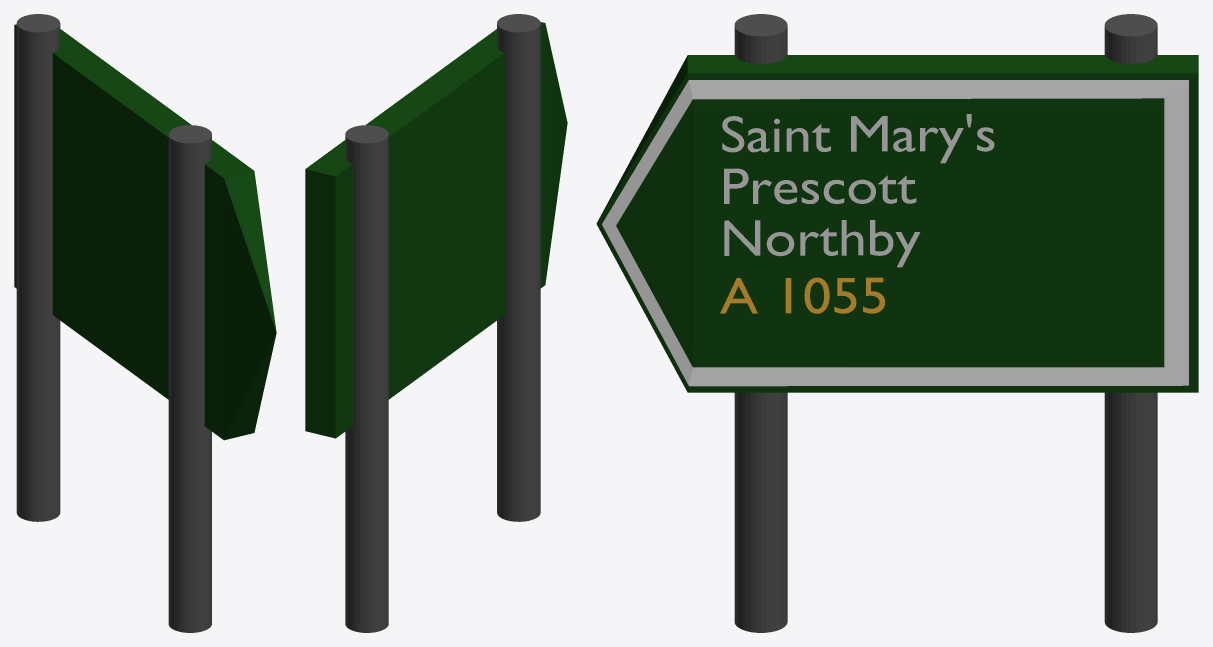
File: HalifaxParkJunctionSign5.fbx
3 renders of one model, left to right at view 1: azimuth 30°, elevation 25°; view 2: azimuth 150°, elevation 25°; view 3: azimuth 270°, elevation 25°, orthographic. The views are drawn at different scales.
Visible parts, largest first — view 1: Cube, Cylinder.001, Cylinder; view 2: Cube, Cylinder, Cylinder.001; view 3: Cube, Cylinder.001, Cylinder, Text, Text.001.
Boxes of the visible parts, left/top/right/bottom form: Cube: left=14, top=24, right=276, bottom=440; Cylinder.001: left=16, top=14, right=60, bottom=521; Cylinder: left=168, top=125, right=211, bottom=632; Cube: left=305, top=22, right=567, bottom=438; Cylinder: left=497, top=14, right=540, bottom=521; Cylinder.001: left=345, top=125, right=388, bottom=632; Cube: left=596, top=55, right=1198, bottom=392; Cylinder.001: left=1104, top=14, right=1157, bottom=632; Cylinder: left=734, top=14, right=787, bottom=632; Text: left=722, top=114, right=994, bottom=267; Text.001: left=720, top=277, right=884, bottom=313.
Bounding box in the file's own units: 45.16 × 368 × 336.
